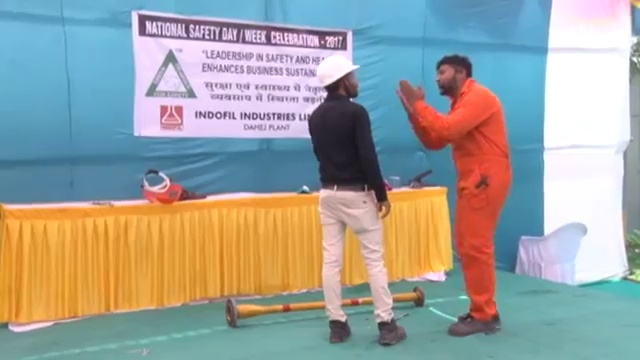helmet: (314, 54, 360, 88)
helmet_off: (433, 53, 473, 98)
helmet_on: (313, 53, 361, 100)
person: (303, 52, 413, 348), (402, 49, 510, 340)
